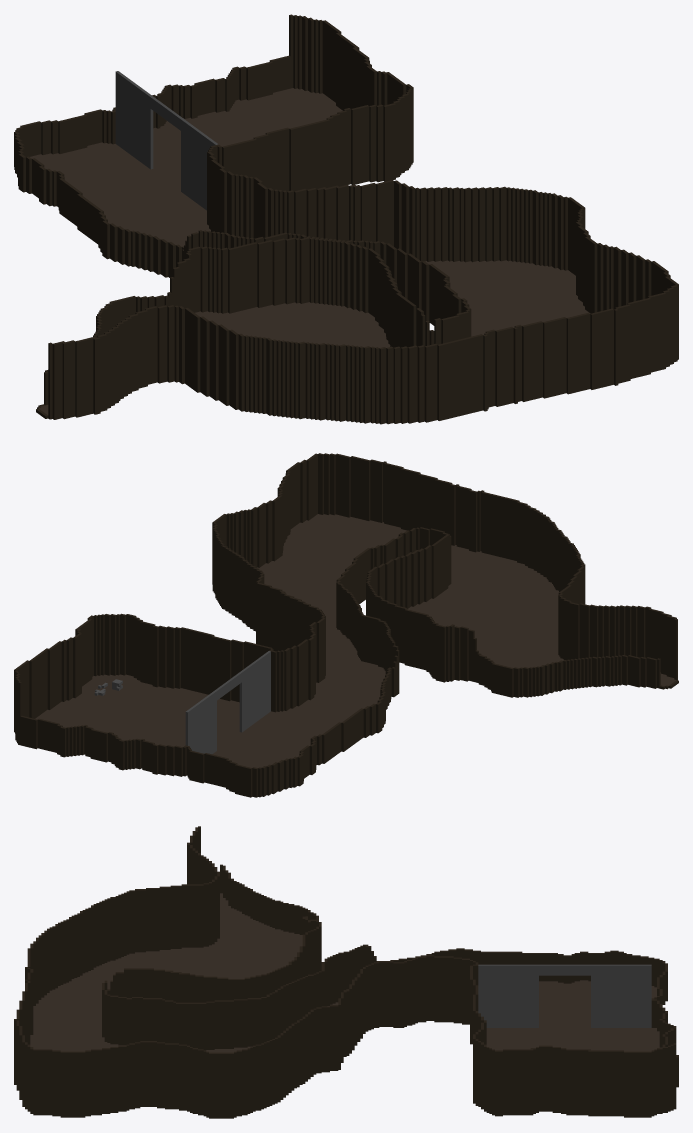
The model's file is orc_prison.obj.
3 renders of one model, top to bottom at view 1: azimuth 30°, elevation 25°; view 2: azimuth 150°, elevation 25°; view 3: azimuth 270°, elevation 25°, orthographic. The views are drawn at different scales.
Bounding box in the file's own units: 19.7 × 2.6 × 24.2.
1 material, 1 textured.
